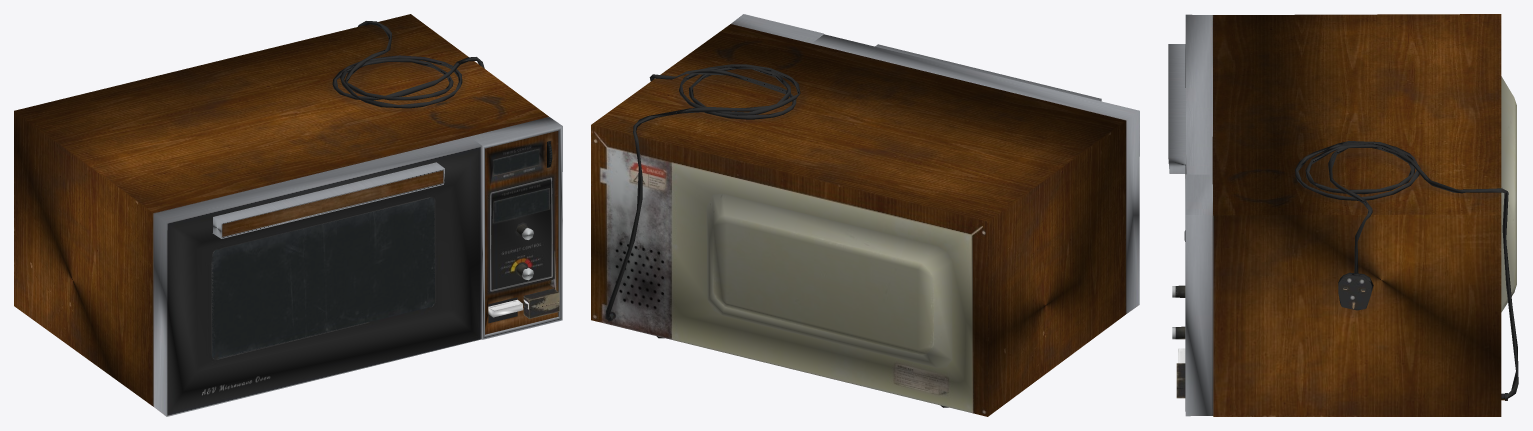
The model's file is vintage_microwave.glb.
3 renders of one model, left to right at view 1: azimuth 30°, elevation 25°; view 2: azimuth 150°, elevation 25°; view 3: azimuth 270°, elevation 25°, orthographic. The views are drawn at different scales.
Parts seen in each view (by area): view 1: vintage_microwave; view 2: vintage_microwave; view 3: vintage_microwave.
Boxes of the visible parts, x1,y1,x2,y2 form: vintage_microwave: [14, 14, 562, 416]; vintage_microwave: [591, 14, 1139, 416]; vintage_microwave: [1168, 14, 1518, 416].
Size of the model in its own units: 1.07 by 0.5258 by 0.7414.
Materials: 2 (2 with a texture image).
